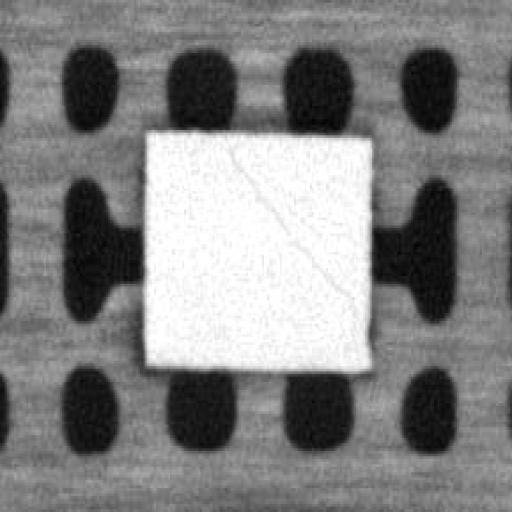DIE_CRACK: (225, 146, 353, 294)
